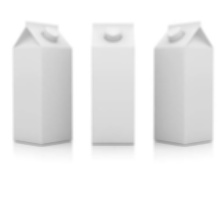carton: (7, 17, 76, 150), (147, 18, 217, 149), (88, 19, 137, 146)
